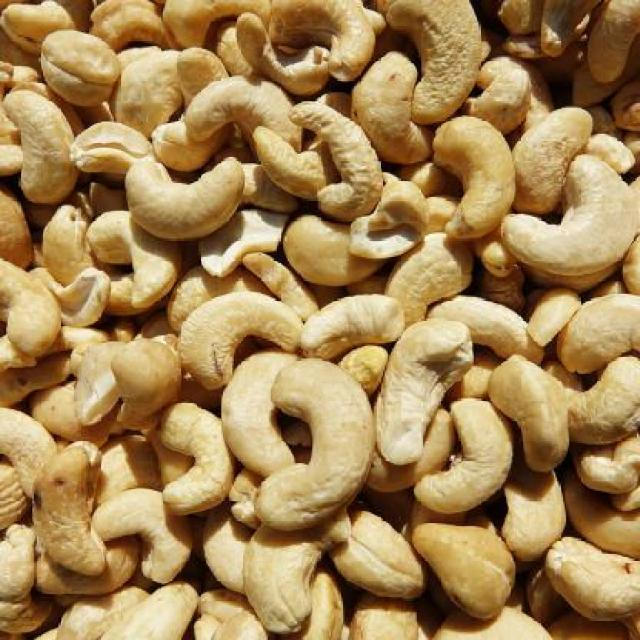Frutta secca: (21, 6, 630, 622)
